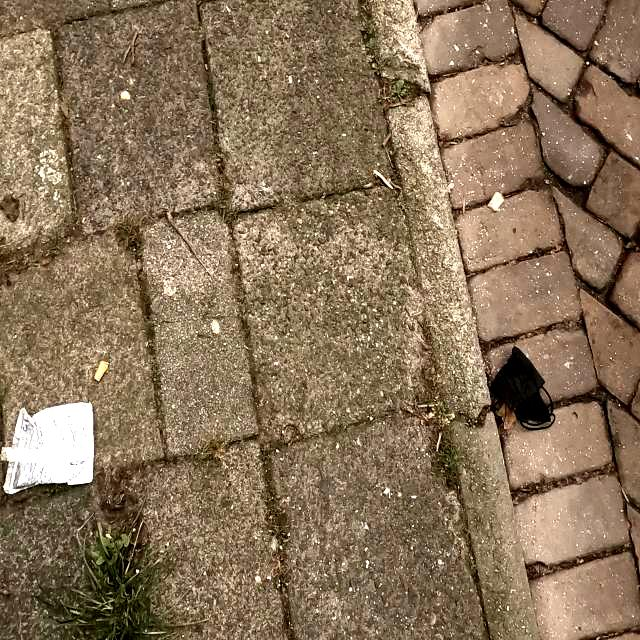Mask: (502, 343, 558, 435)
